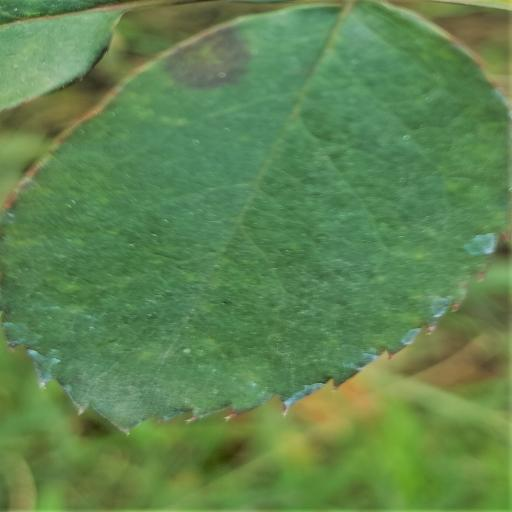black_spot: (1, 2, 509, 429)
